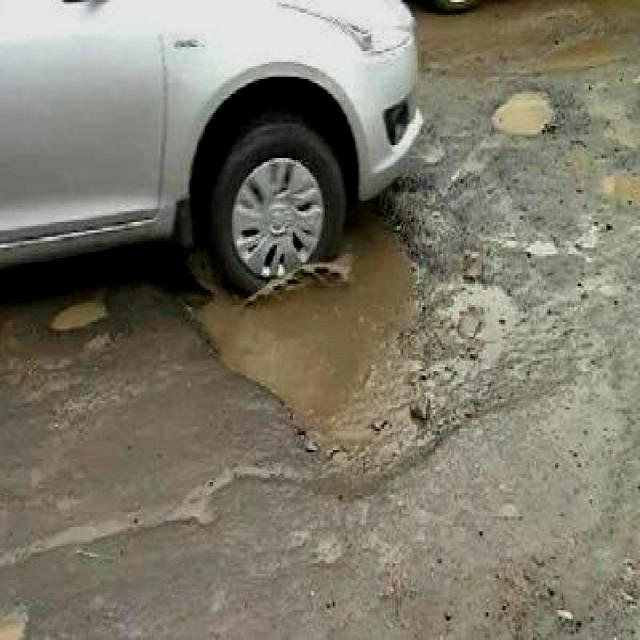Pothole: (178, 164, 493, 493), (490, 83, 562, 134), (46, 292, 112, 335), (594, 156, 640, 213)
